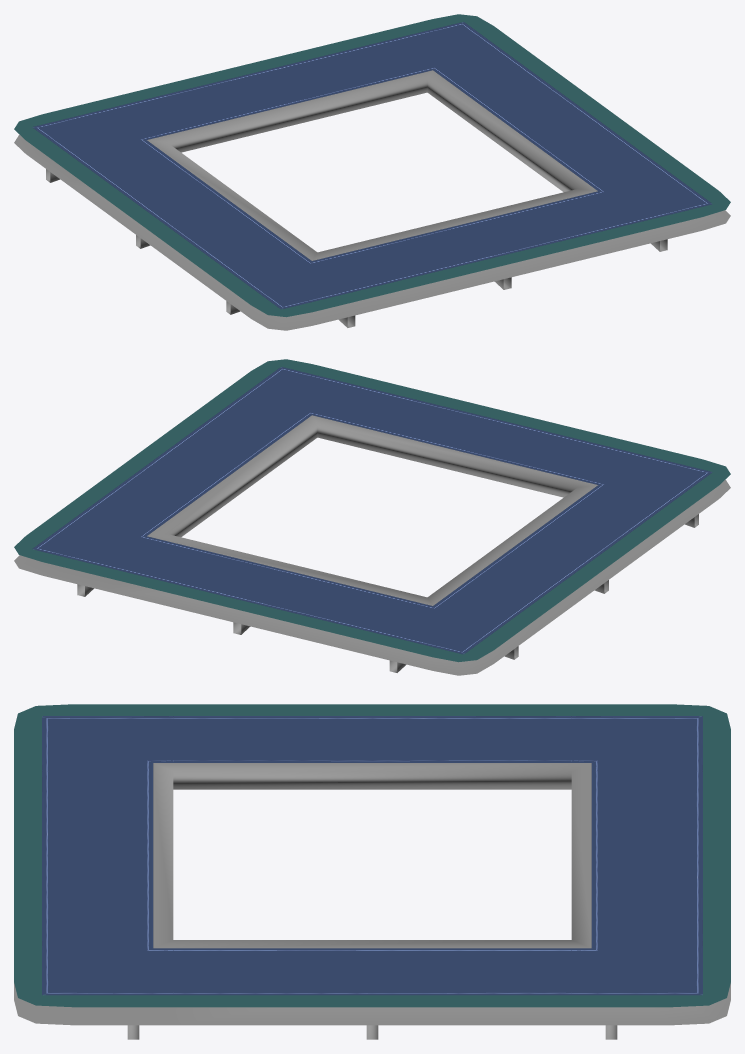
File: IceMaze_Ledge04.FBX
3 views of the same model, one above another, from view 1: azimuth 30°, elevation 25°; view 2: azimuth 150°, elevation 25°; view 3: azimuth 270°, elevation 25° (orthographic). The views are drawn at different scales.
Visible parts, largest first — view 1: IceMaze_Ledge04_Floor, IceMaze_Ledge04; view 2: IceMaze_Ledge04_Floor, IceMaze_Ledge04; view 3: IceMaze_Ledge04_Floor, IceMaze_Ledge04.
Boxes of the visible parts, left/top/right/bottom form: IceMaze_Ledge04_Floor: left=14, top=14, right=730, bottom=317; IceMaze_Ledge04: left=14, top=70, right=730, bottom=330; IceMaze_Ledge04_Floor: left=14, top=359, right=730, bottom=662; IceMaze_Ledge04: left=14, top=415, right=730, bottom=675; IceMaze_Ledge04_Floor: left=14, top=704, right=730, bottom=1007; IceMaze_Ledge04: left=14, top=763, right=730, bottom=1039.
Size of the model in its own units: 18 by 0.9 by 18.
